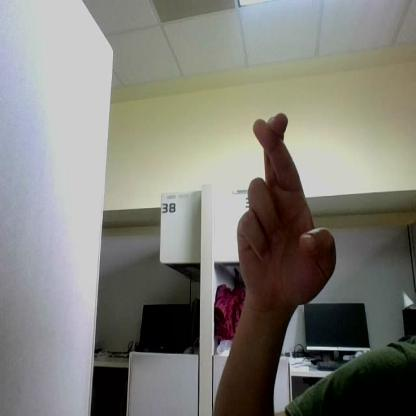R: (238, 113, 336, 306)
